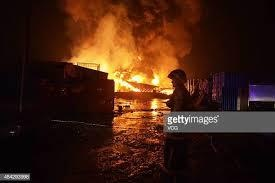fire: (110, 67, 170, 94)
